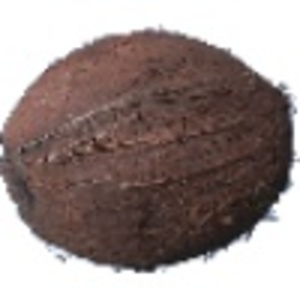coco: (1, 29, 297, 272)
